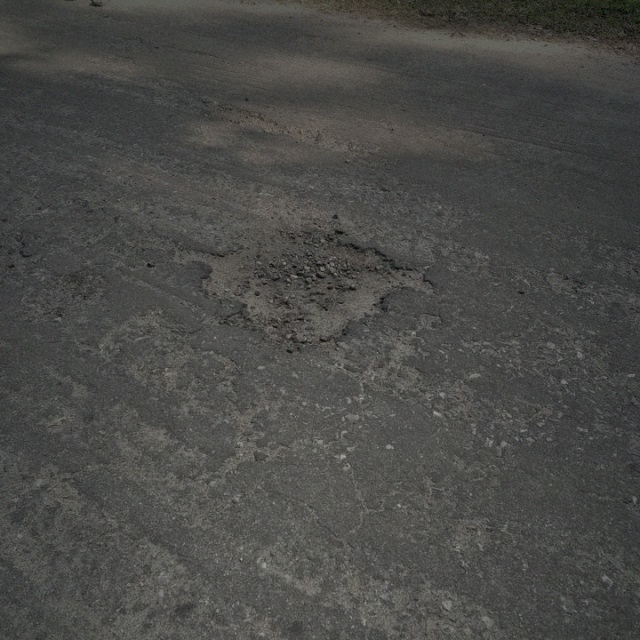pothole: (170, 224, 438, 347)
